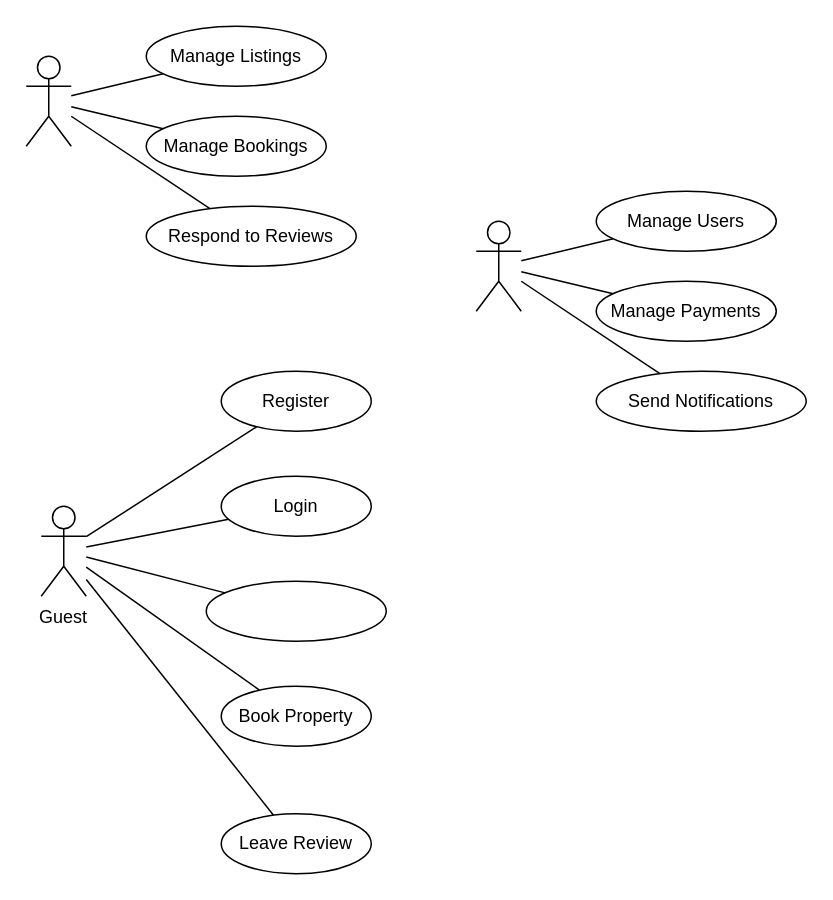
The diagram is 833 pixels wide and 900 high, and some of its shapes have lost their labels. The shapes that lost their labels are listed below. From the top down, each one's box as (x1, y1, x2, y2) in pixels, then its label:
(25, 55, 71, 146): Host
(475, 220, 521, 311): Admin
(205, 580, 386, 641): Search Properties
